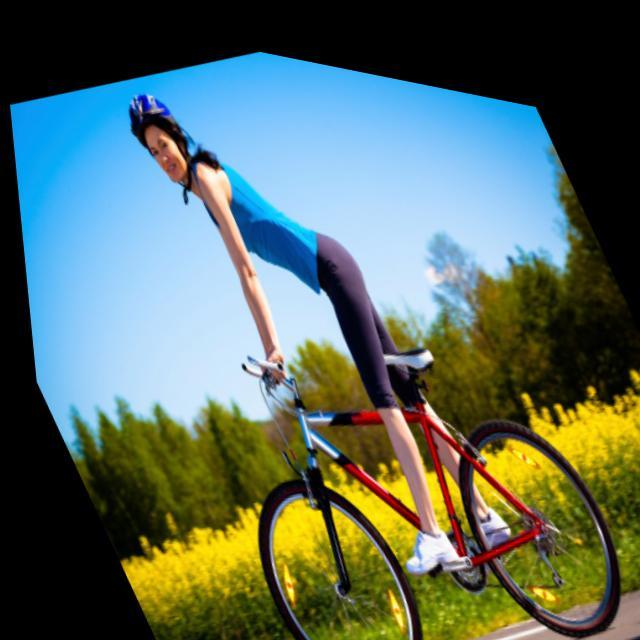Helmet: (115, 82, 211, 192)
